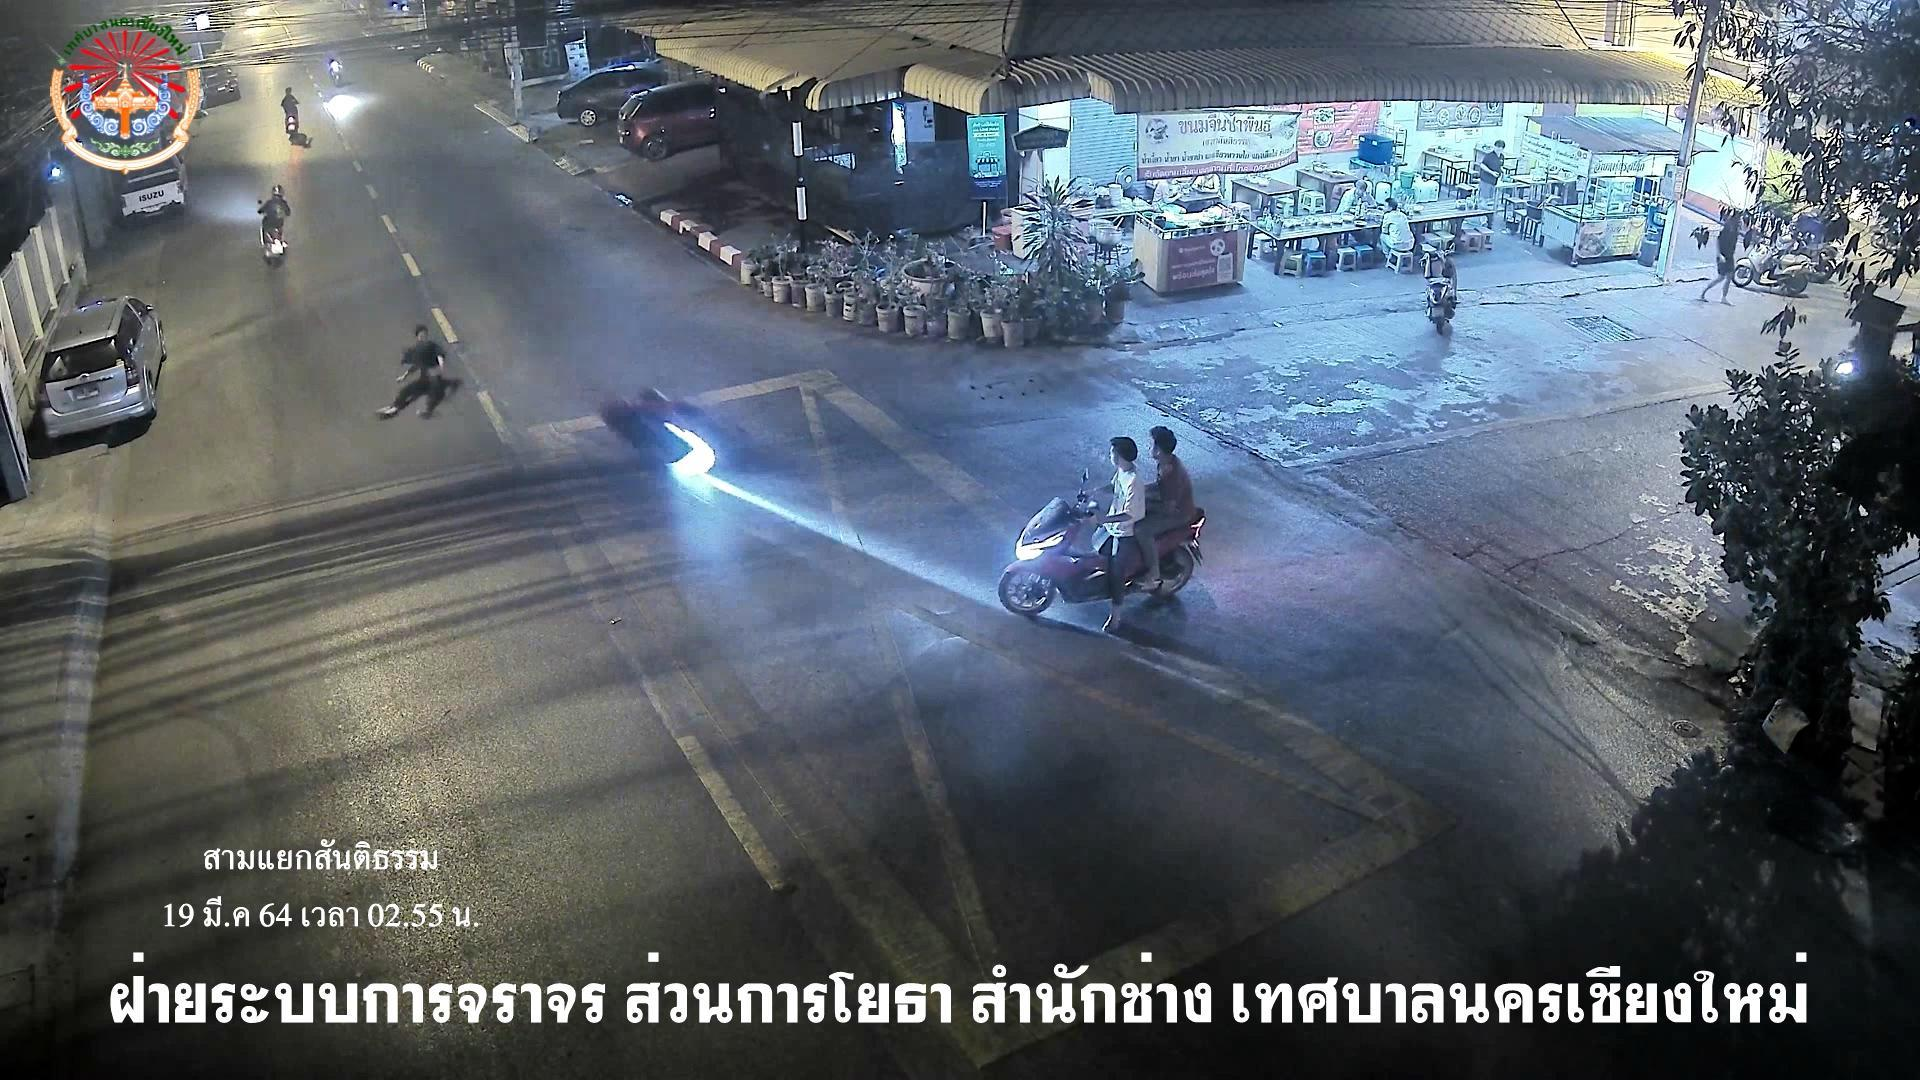accident: (376, 318, 463, 425)
